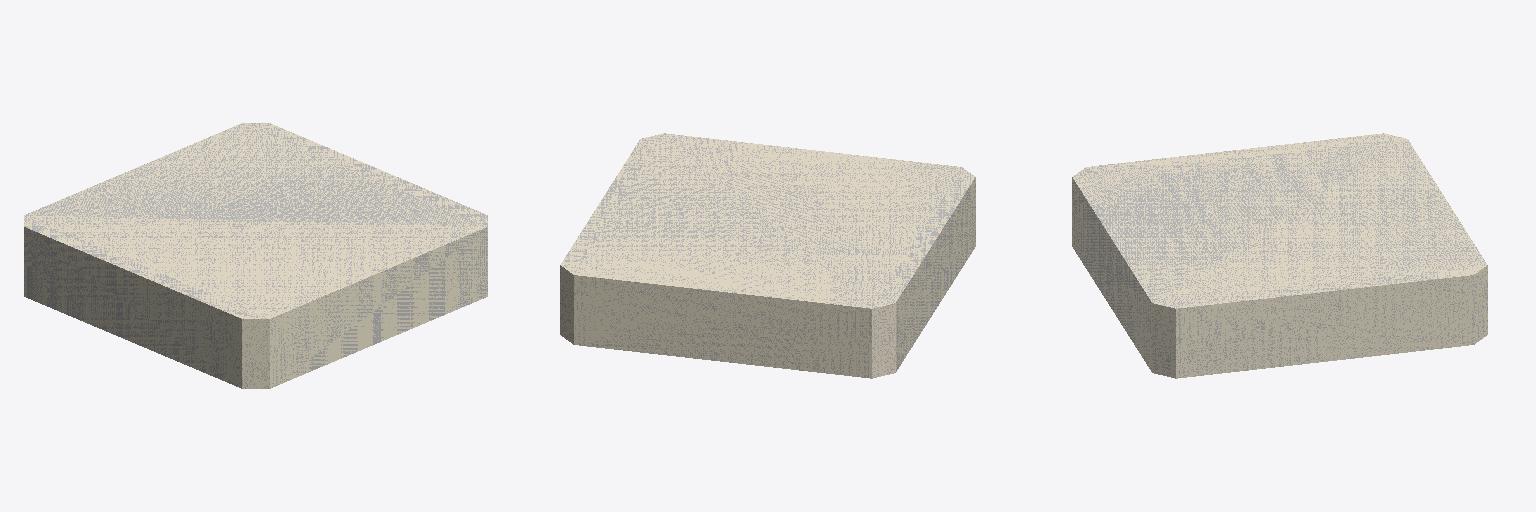
File: original-52.obj
3 views of the same model, side by side, from view 1: azimuth 30°, elevation 25°; view 2: azimuth 150°, elevation 25°; view 3: azimuth 270°, elevation 25° (orthographic).
Parts seen in each view (by area): view 1: key40/key/mesh2/mesh2-geometry#mesh2-geometry; view 2: key40/key/mesh2/mesh2-geometry#mesh2-geometry; view 3: key40/key/mesh2/mesh2-geometry#mesh2-geometry.
Part boxes in pixels (bbox=[...]): key40/key/mesh2/mesh2-geometry#mesh2-geometry: bbox=[24, 123, 487, 388]; key40/key/mesh2/mesh2-geometry#mesh2-geometry: bbox=[560, 133, 975, 378]; key40/key/mesh2/mesh2-geometry#mesh2-geometry: bbox=[1072, 133, 1487, 378].
Size of the model in its own units: 0.0628 by 0.0117 by 0.0628.